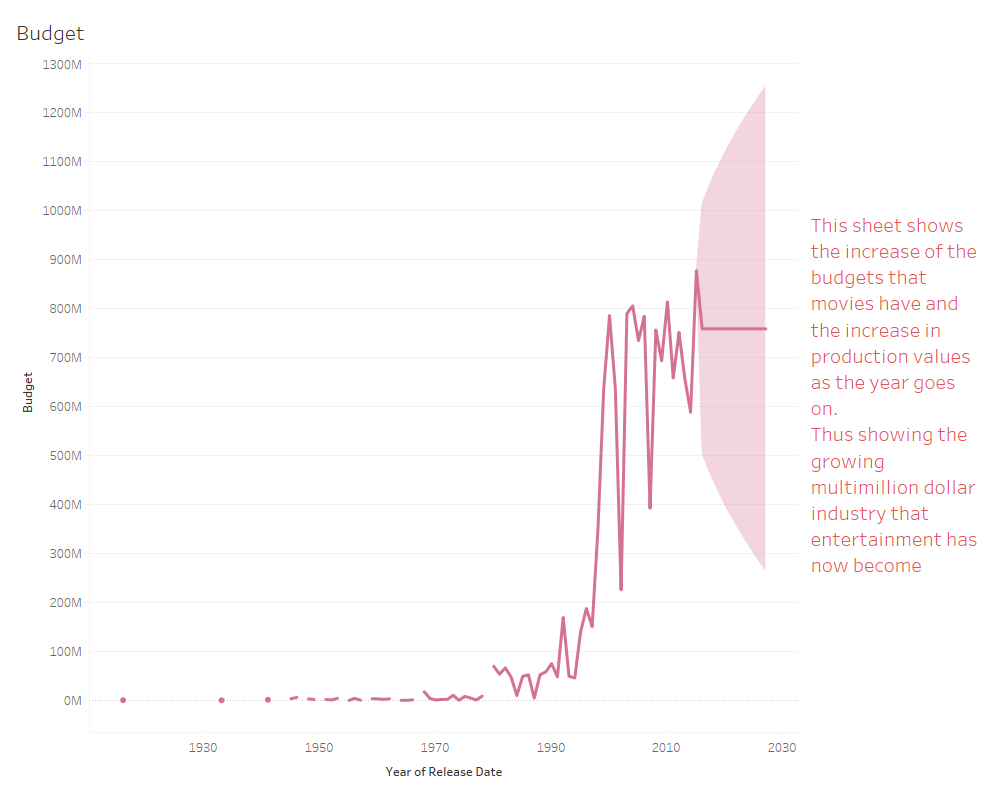

What the dashboard file says about the page in this screenshot:
{"tool":"tableau","page":{"name":"Budget D","canvas":[1000,800],"ordinal":1},"visuals":[{"type":"worksheet","title":"Budget","mark":"Automatic","rows":["budget"],"cols":["release_date"],"box":[8,8,796,784]},{"type":"text","box":[804,8,188,784]}]}

Visuals, with their boxes in screenshot pixels (x1, y1, x2, y2), scaled from the page's 1000x800 canvas onto the 1000x800 screenshot:
"Budget" worksheet: <box>8,8,804,792</box>
text: <box>804,8,992,792</box>
